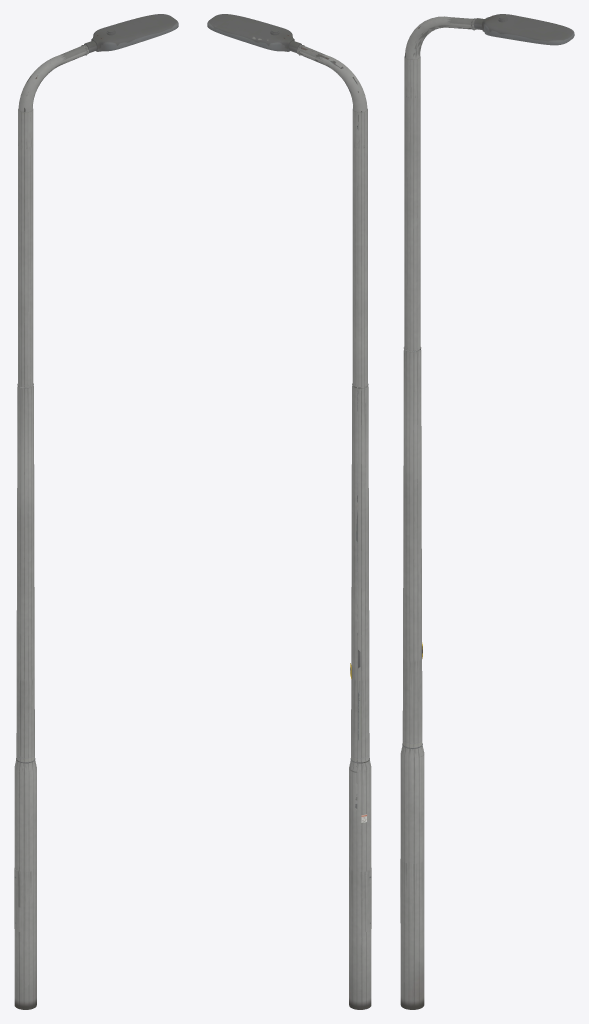
File: streetlight-led-modern-01.glb
3 views of the same model, side by side, from view 1: azimuth 30°, elevation 25°; view 2: azimuth 150°, elevation 25°; view 3: azimuth 330°, elevation 25° (orthographic). The views are drawn at different scales.
Parts seen in each view (by area): view 1: Pole_LOD0, LampHousing_LOD0, Arm_LOD0, AccessPanel_LOD0; view 2: Pole_LOD0, LampHousing_LOD0, Arm_LOD0, AccessPanel_LOD0; view 3: Pole_LOD0, LampHousing_LOD0, Arm_LOD0.
Boxes of the visible parts, bbox=[...] form: Pole_LOD0: bbox=[14, 109, 36, 1009]; LampHousing_LOD0: bbox=[84, 14, 178, 52]; Arm_LOD0: bbox=[18, 44, 88, 148]; AccessPanel_LOD0: bbox=[14, 868, 20, 931]; Pole_LOD0: bbox=[349, 109, 371, 1009]; LampHousing_LOD0: bbox=[207, 14, 301, 52]; Arm_LOD0: bbox=[297, 44, 367, 148]; AccessPanel_LOD0: bbox=[365, 868, 371, 931]; Pole_LOD0: bbox=[400, 56, 424, 1009]; LampHousing_LOD0: bbox=[474, 14, 574, 45]; Arm_LOD0: bbox=[404, 16, 477, 98].
Size of what is drawn, in the model's own units: 1.38 by 7.9 by 0.3041.
4 materials, 1 textured.
